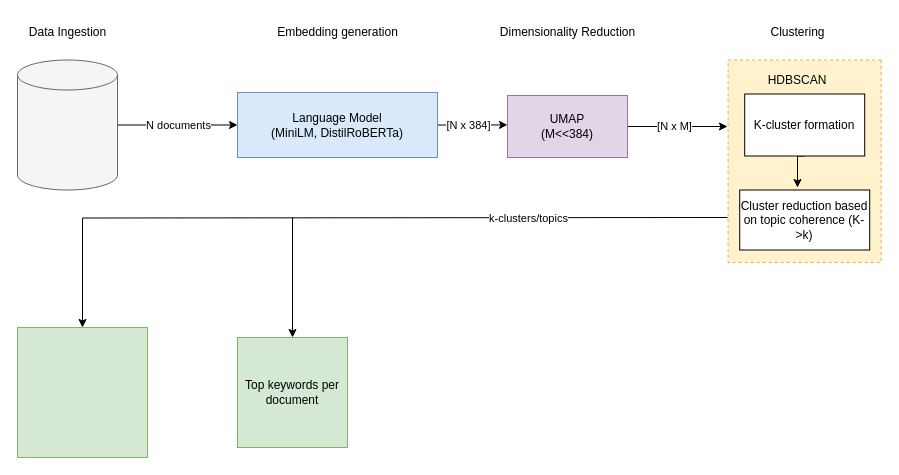
The diagram is 899 pixels wide and 475 high, and some of its shapes have lost their labels. Here are the shapes that lost their labels. From the top down, the centre of each, then its label:
At (67,124): "Research papers".
At (82,392): "Exemplars/documents per cluster".
